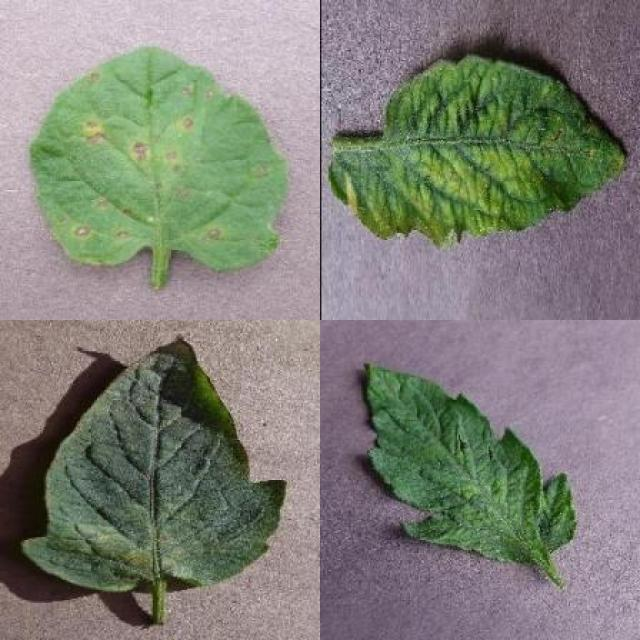Mosaic Virus: (326, 52, 626, 248), (364, 361, 580, 566)
Septoria: (30, 44, 287, 272)
Spider Mites: (23, 335, 288, 592)
